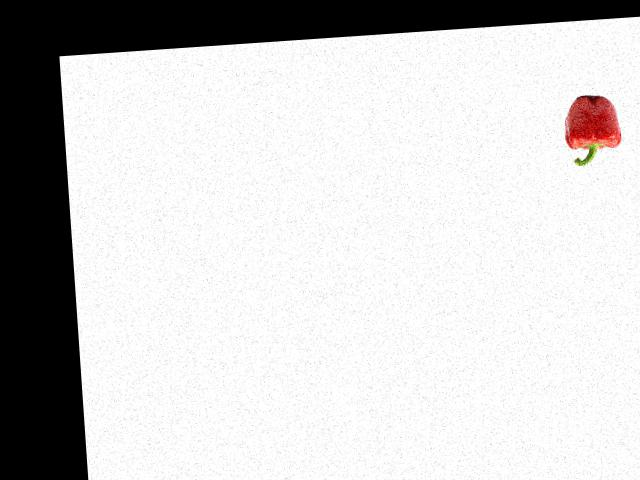bell_pepper: (558, 90, 626, 169)
